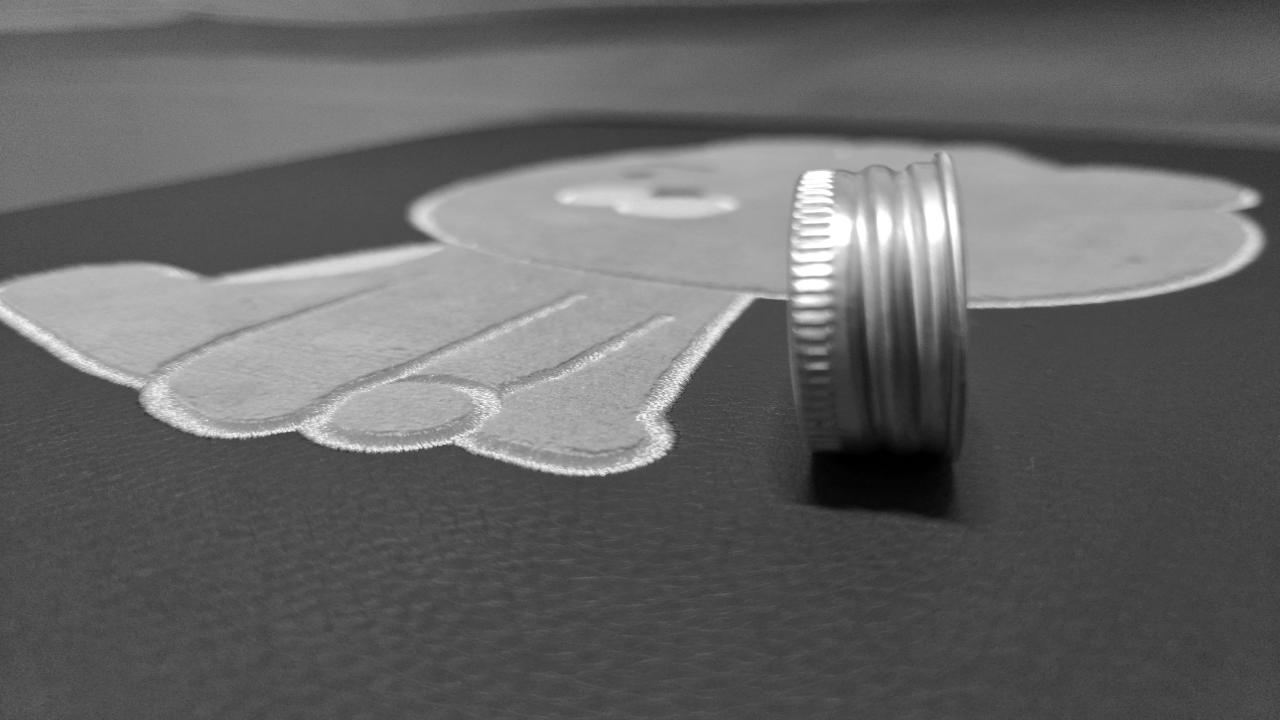bottle_cap: (789, 154, 966, 469)
